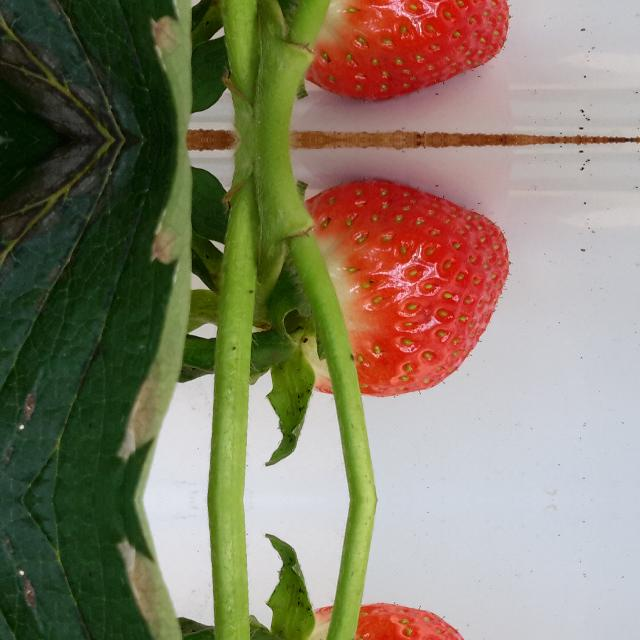Health_100: (300, 178, 510, 398), (300, 0, 510, 102)
